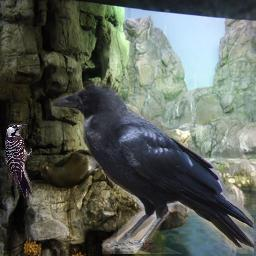Crow: (49, 81, 254, 254)
Woodpecker: (5, 123, 32, 198)
